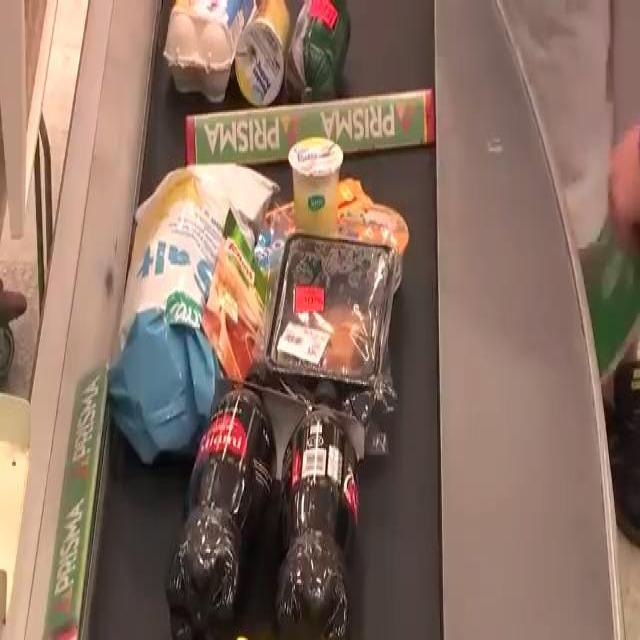beverage: (175, 387, 278, 630), (286, 398, 350, 633)
food-box: (122, 156, 272, 458), (286, 233, 394, 398), (203, 251, 276, 369), (173, 0, 246, 100), (288, 0, 356, 100), (288, 142, 344, 238), (237, 2, 290, 101)
